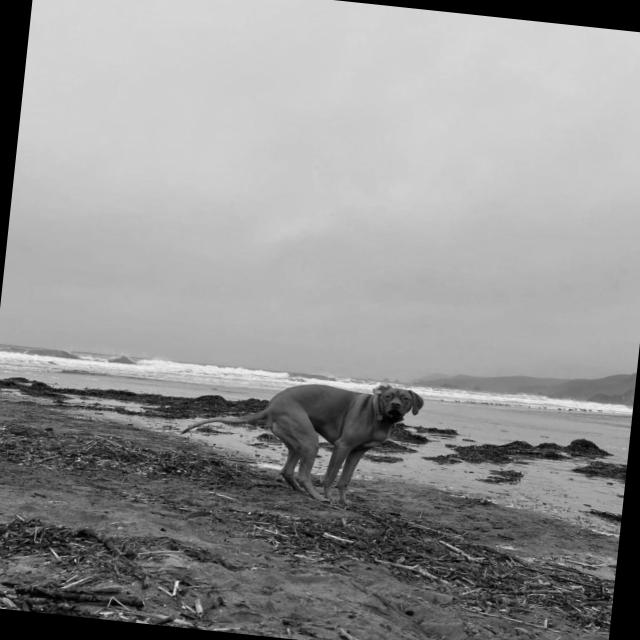squatting: (172, 351, 432, 514)
